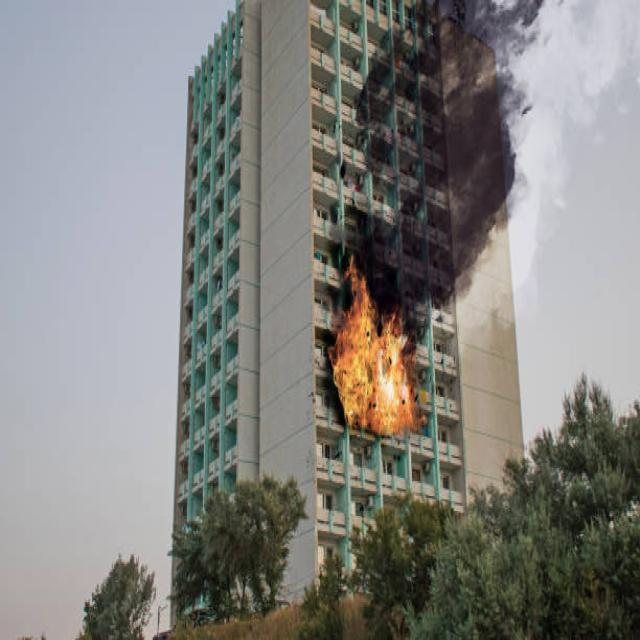Fire: (325, 262, 417, 449)
Smoke: (346, 3, 531, 316)
